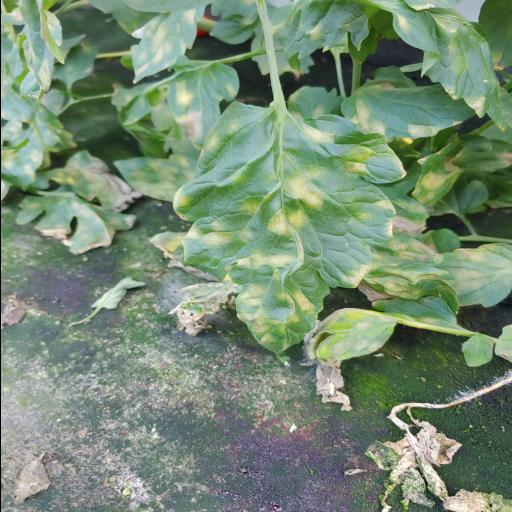disease_tomato: (171, 104, 405, 356)
